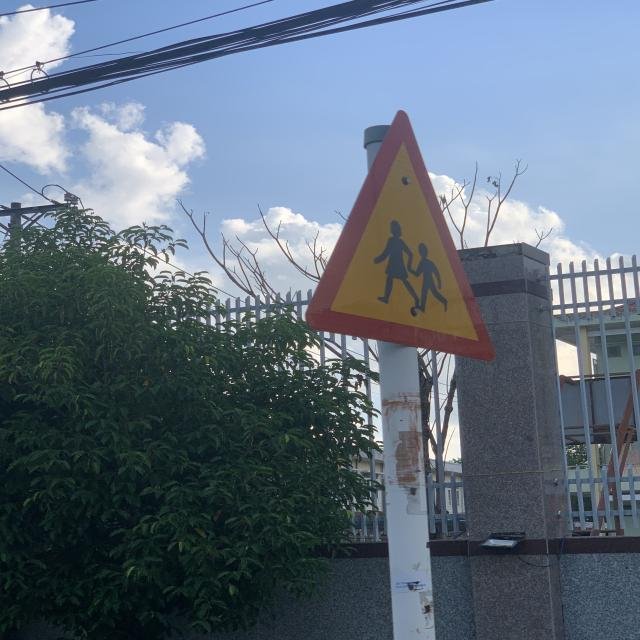Vong_Xuyen: (308, 110, 496, 358)
